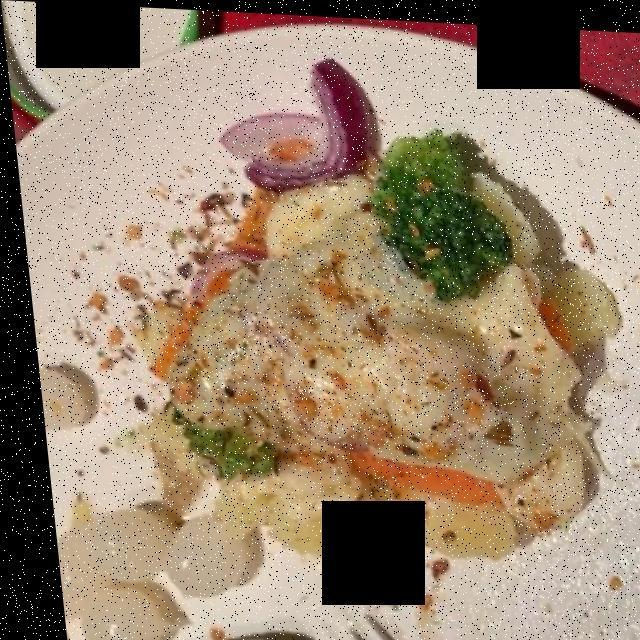broccoli: (158, 124, 508, 469)
carrot: (138, 184, 565, 507)
cheese: (159, 172, 577, 520)
mashed-potatoes: (274, 471, 507, 587)
onion: (210, 58, 364, 185)
